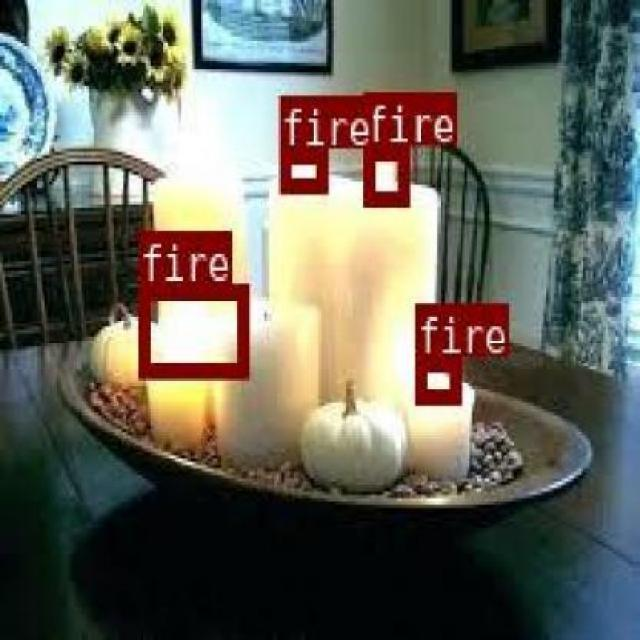fire: (138, 283, 246, 376), (362, 142, 407, 205), (414, 355, 459, 403), (278, 147, 326, 189)
